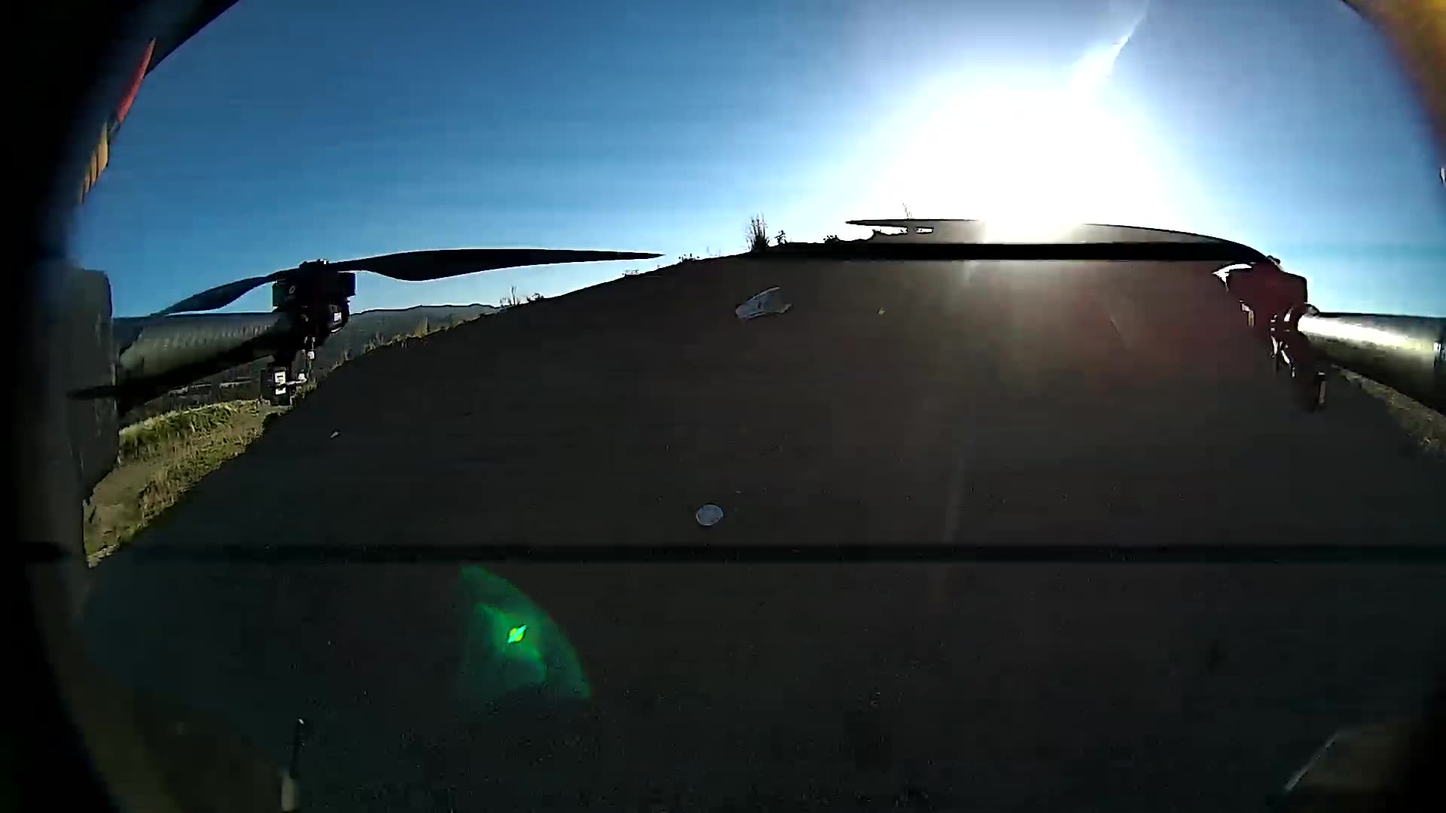Target: (695, 504, 725, 528)
